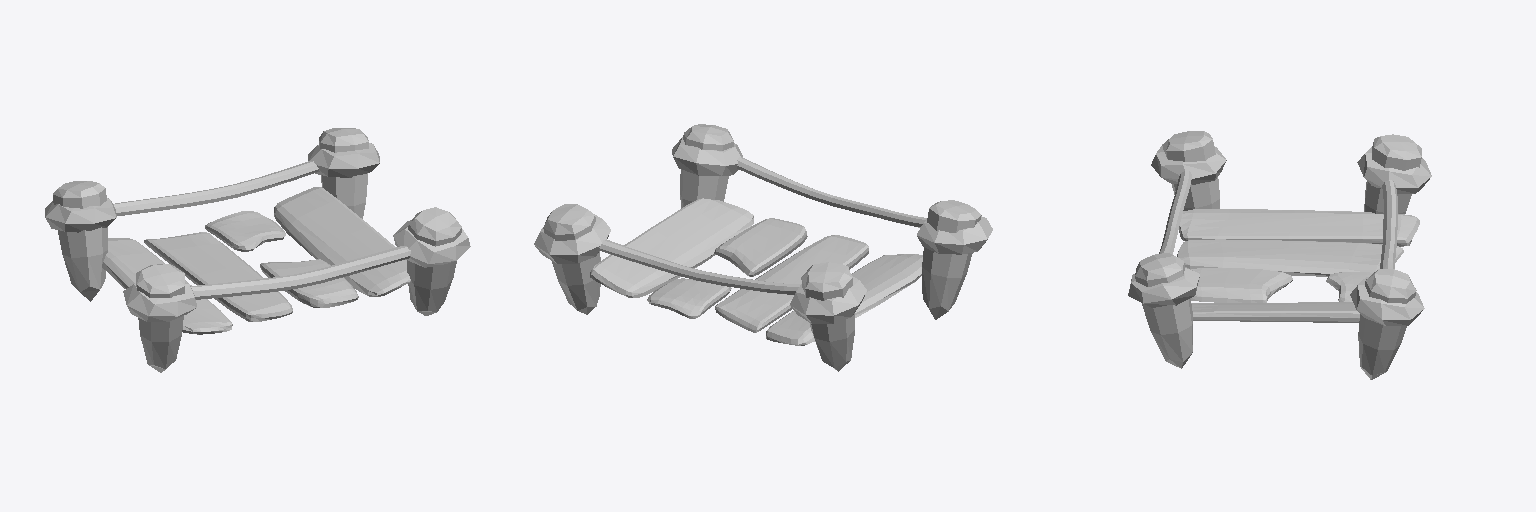
The model's file is tropical_bridge.obj.
3 renders of one model, left to right at view 1: azimuth 30°, elevation 25°; view 2: azimuth 150°, elevation 25°; view 3: azimuth 270°, elevation 25°, orthographic.
Parts seen in each view (by area): view 1: bridge.004_Cube.012, bridge.005_Cube.017, bridge.006_Cube.018; view 2: bridge.004_Cube.012, bridge.006_Cube.018, bridge.005_Cube.017; view 3: bridge.004_Cube.012, bridge.006_Cube.018, bridge.005_Cube.017.
Boxes of the visible parts, box(x1,y1,x2,y2) form: bridge.004_Cube.012: box(102, 187, 410, 334); bridge.005_Cube.017: box(45, 143, 470, 321); bridge.006_Cube.018: box(53, 128, 461, 372); bridge.004_Cube.012: box(590, 198, 922, 345); bridge.006_Cube.018: box(543, 124, 981, 371); bridge.005_Cube.017: box(534, 137, 992, 323); bridge.004_Cube.012: box(1177, 209, 1419, 322); bridge.006_Cube.018: box(1135, 131, 1421, 379); bridge.005_Cube.017: box(1128, 144, 1431, 325).
Size of the model in its own units: 18.37 by 5.92 by 13.86.